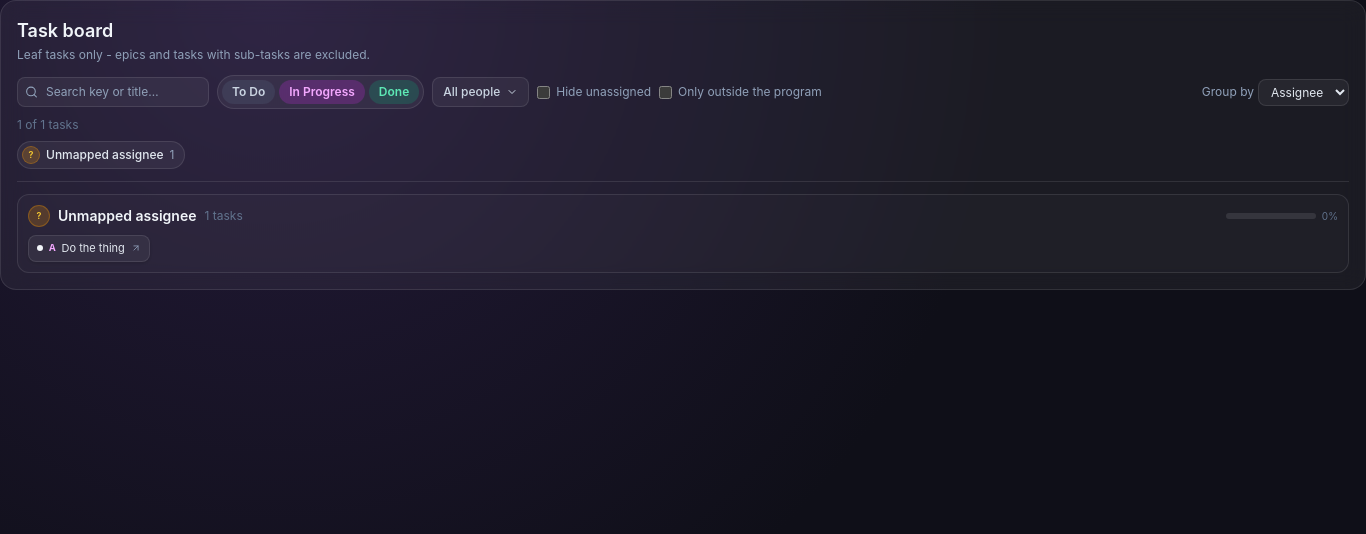
Test: AtlasTaskBoard › switches to person swimlanes when grouped by assignee
Expected: the text "A" is shown, [49, 240, 56, 256]
Select "Assignee" in the dropdown named "Group tasks by": point(1304, 92) [1258, 78, 1349, 106]
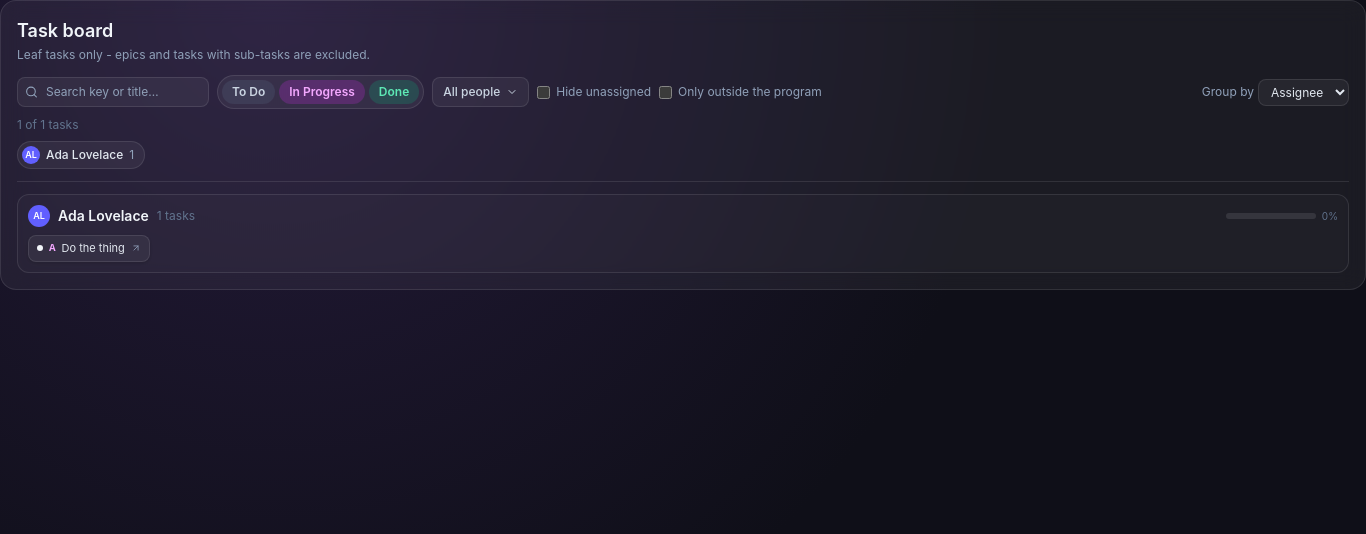
Expected: the text "A" is shown, [49, 240, 56, 256]
Now the button titled "Show only Ada Lovelace's tickets" is shown, box [17, 141, 145, 169]
